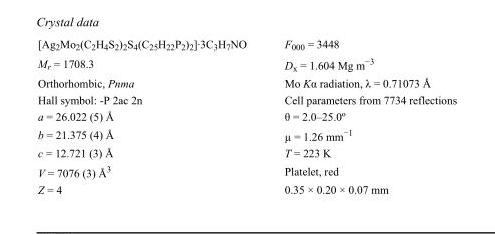table: (37, 37, 456, 195)
table column: (37, 37, 264, 195), (264, 37, 456, 195)
table row: (37, 53, 456, 74), (37, 124, 456, 144), (37, 161, 456, 180), (37, 74, 456, 91), (37, 107, 456, 124), (37, 144, 456, 161), (37, 37, 456, 53), (37, 91, 456, 107), (37, 180, 456, 195)
